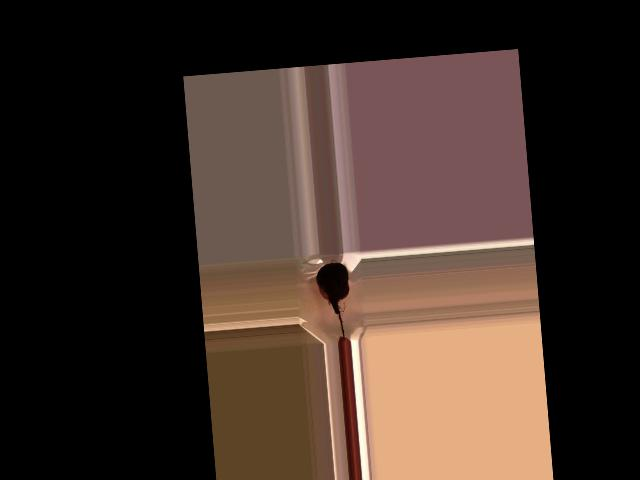beet: (314, 261, 353, 340)
